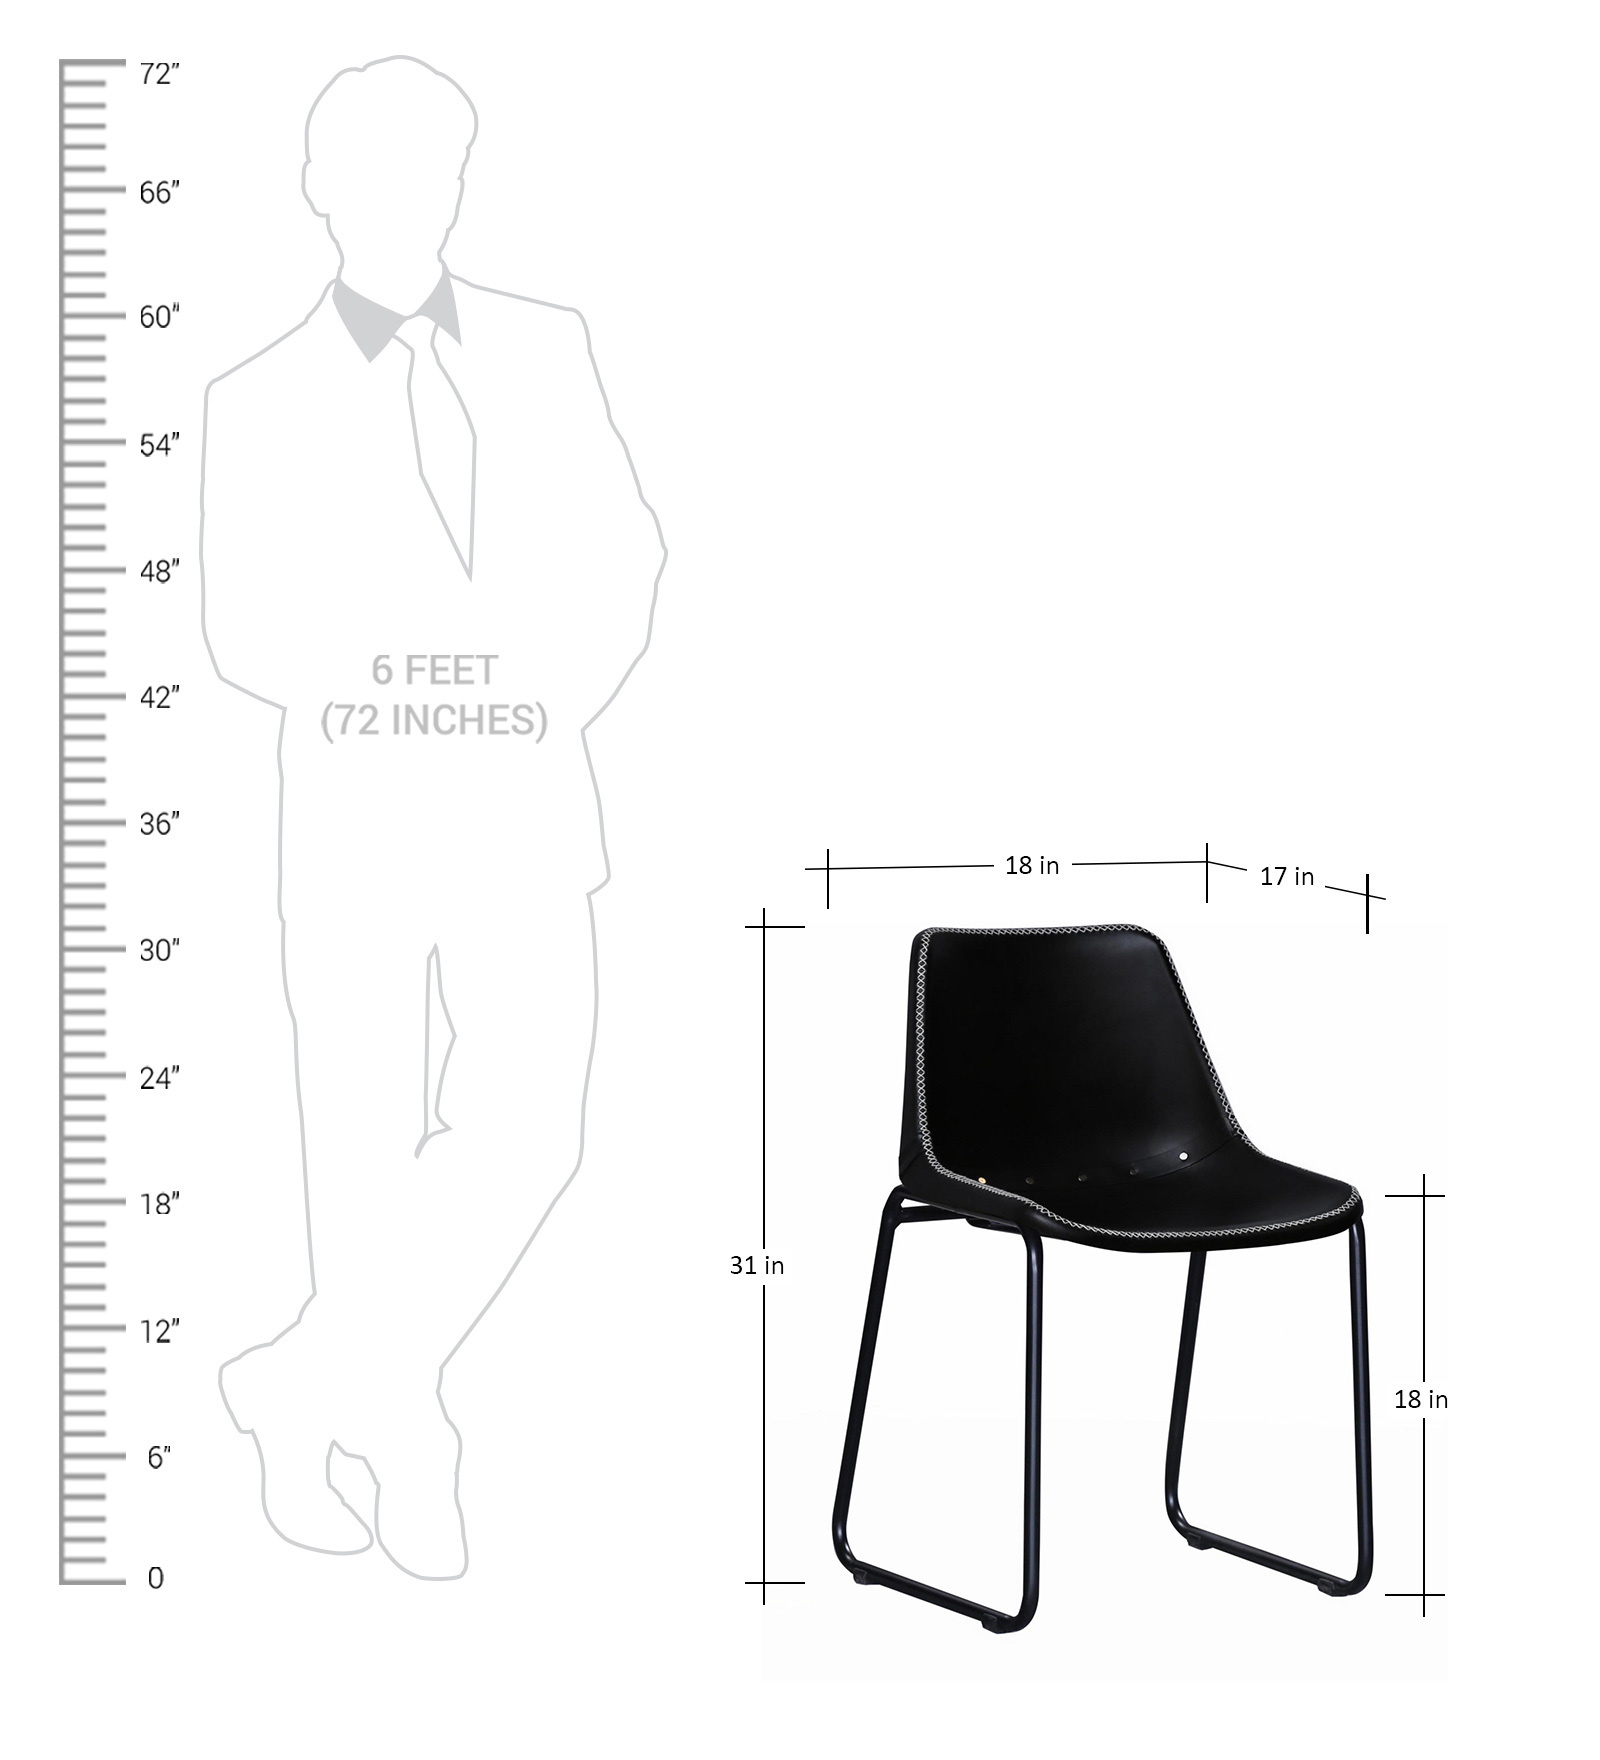Medina Black Color Leather Accent Chair by Bohemiana: (826, 924, 1378, 1640)
